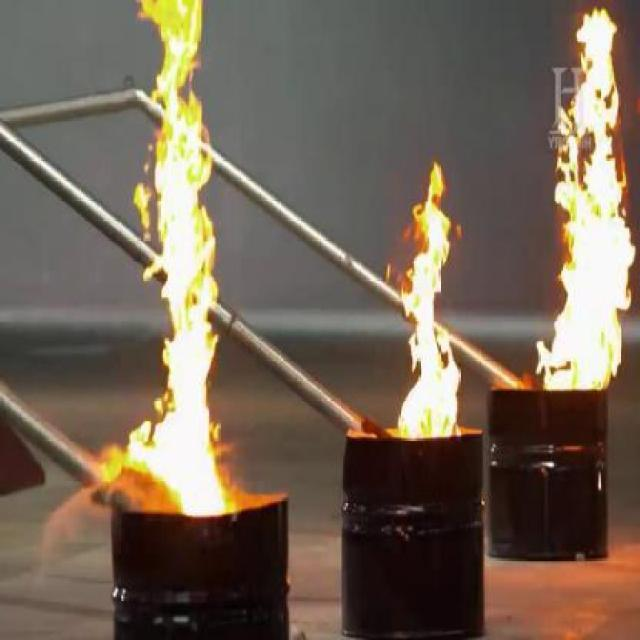Fire: (528, 11, 632, 394), (154, 0, 226, 517), (394, 200, 463, 446), (223, 475, 286, 508), (125, 422, 153, 476), (424, 160, 444, 200)
